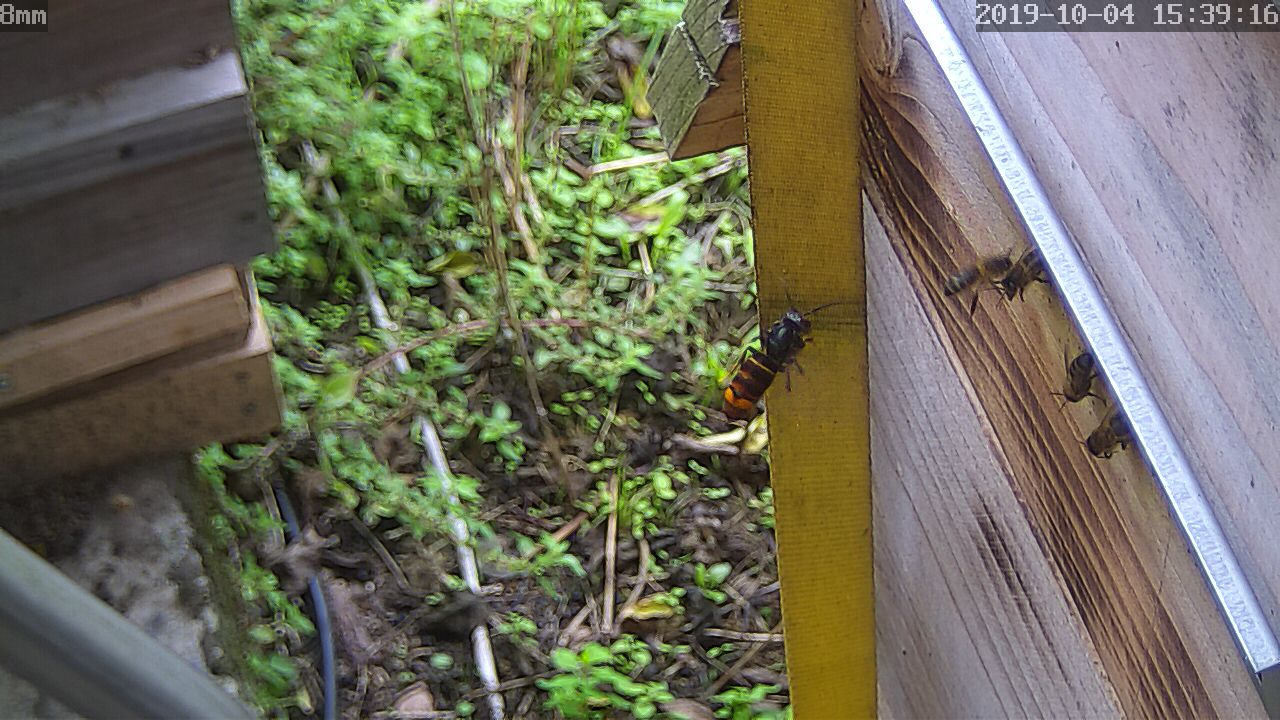bee: (938, 246, 1049, 310), (1042, 338, 1105, 412), (1076, 413, 1136, 465)
hornet: (710, 301, 818, 426)
